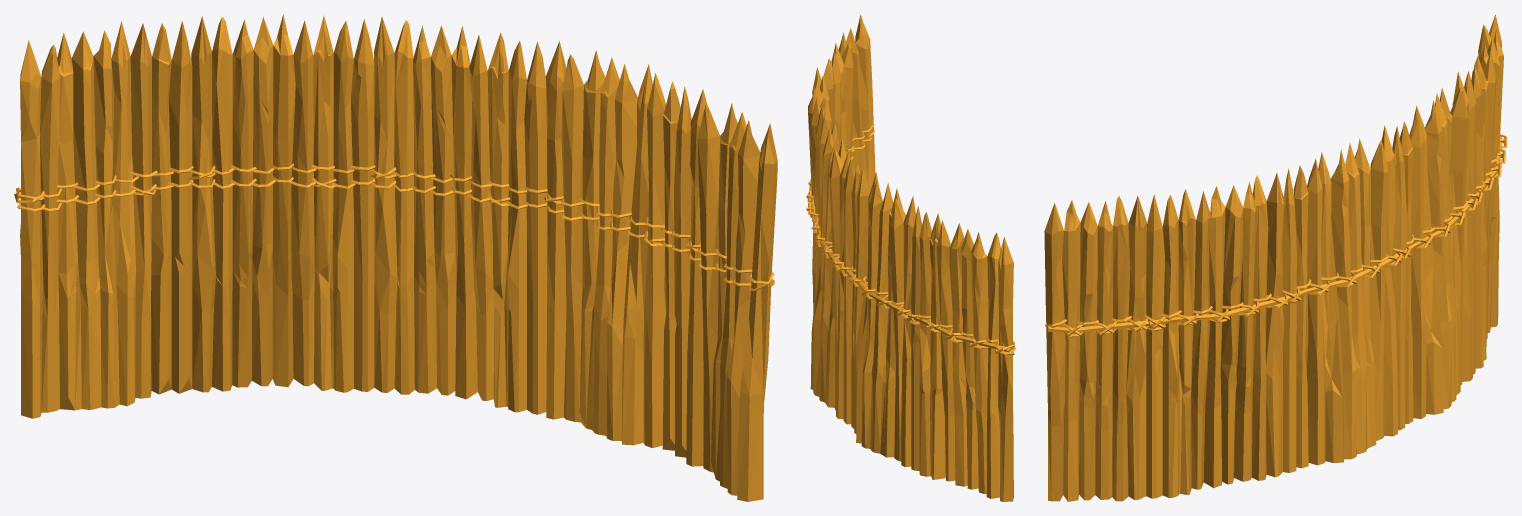
File: SM_Palisade_Corner_Round_9x9_Concave_A.fbx
The picture shows the model from 3 angles, left to right: view 1: azimuth 30°, elevation 25°; view 2: azimuth 150°, elevation 25°; view 3: azimuth 270°, elevation 25°; orthographic projection. The views are drawn at different scales.
Parts seen in each view (by area): view 1: palisade-corner-round-9x9-concave-a; view 2: palisade-corner-round-9x9-concave-a; view 3: palisade-corner-round-9x9-concave-a.
Boxes of the visible parts, x1,y1,x2,y2 form: palisade-corner-round-9x9-concave-a: (14,14,777,501); palisade-corner-round-9x9-concave-a: (806,14,1015,501); palisade-corner-round-9x9-concave-a: (1044,14,1507,501).
Size of the model in its own units: 9.44 by 6.85 by 9.39.
